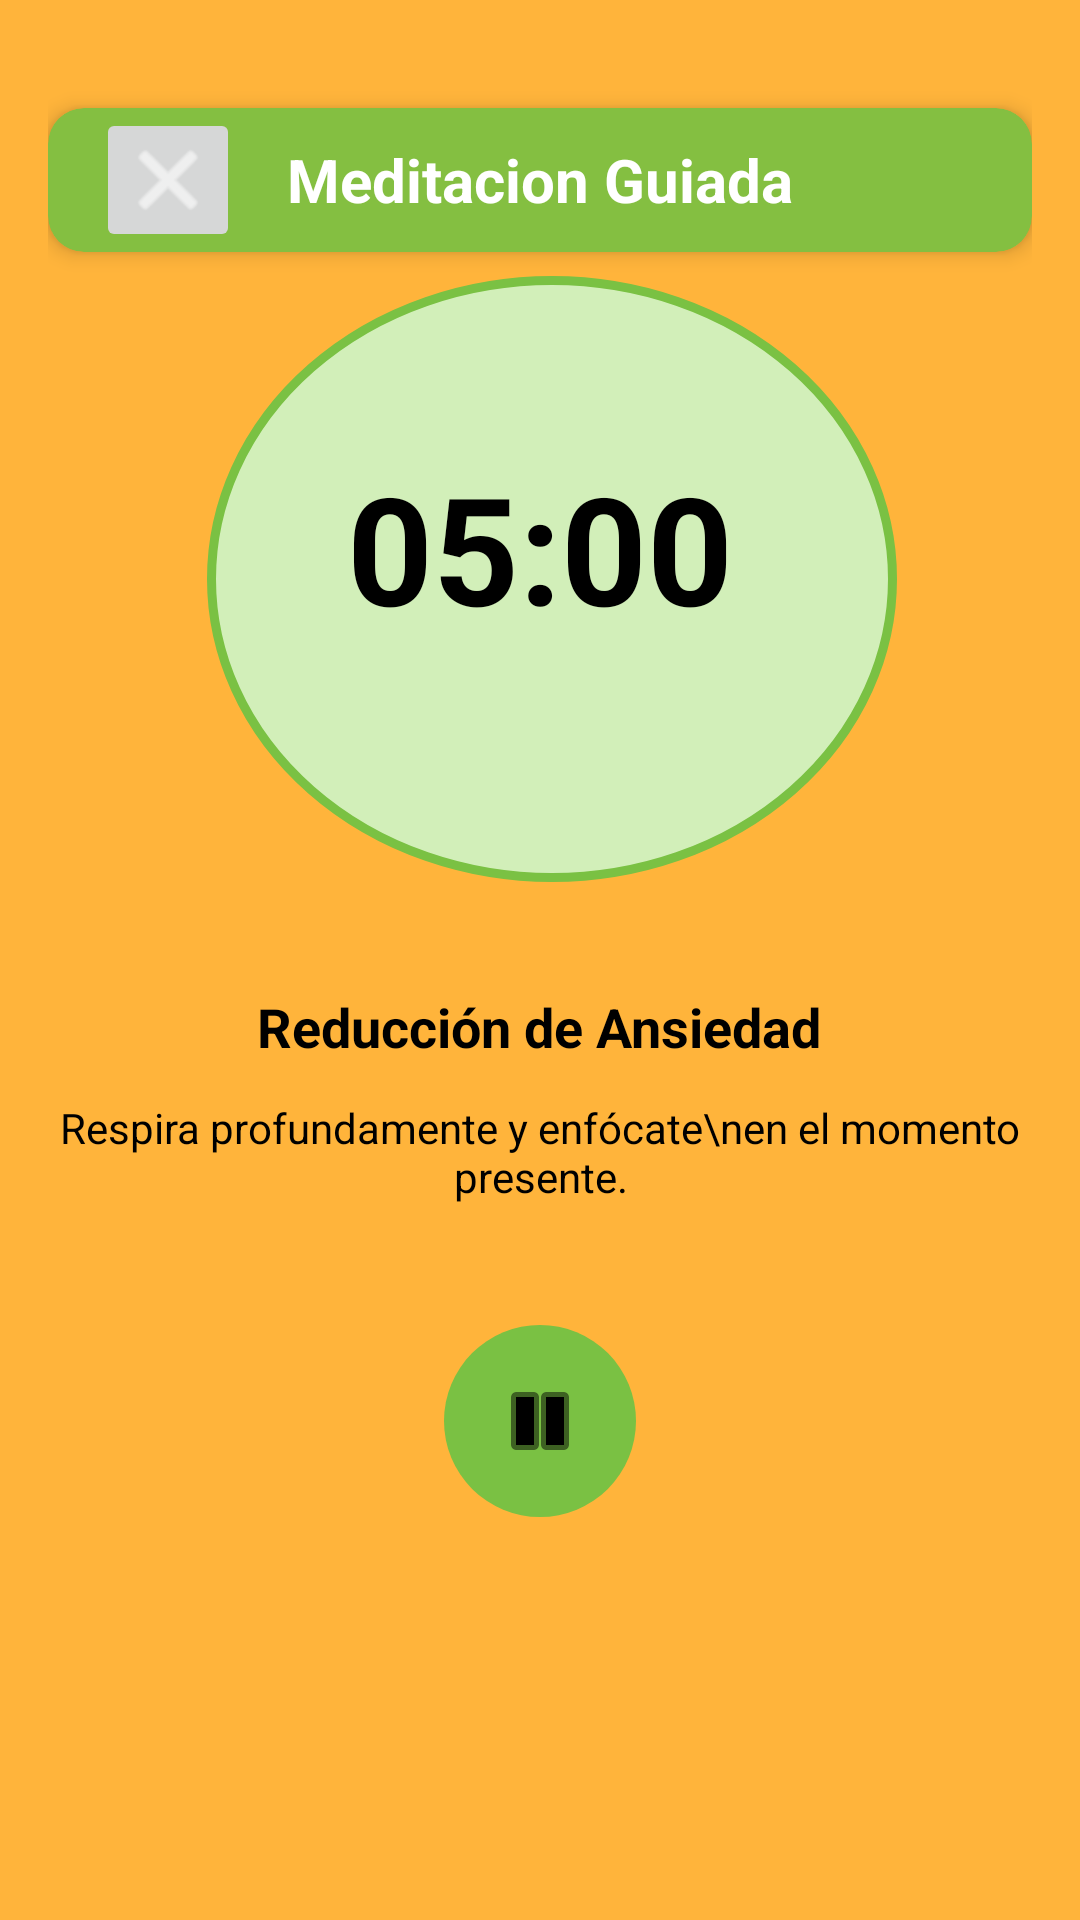

Named icons in this screenshot (1080x1920) and their centers, point (x, y):
Cerrar: point (168, 180)
Pausar: point (540, 1421)
